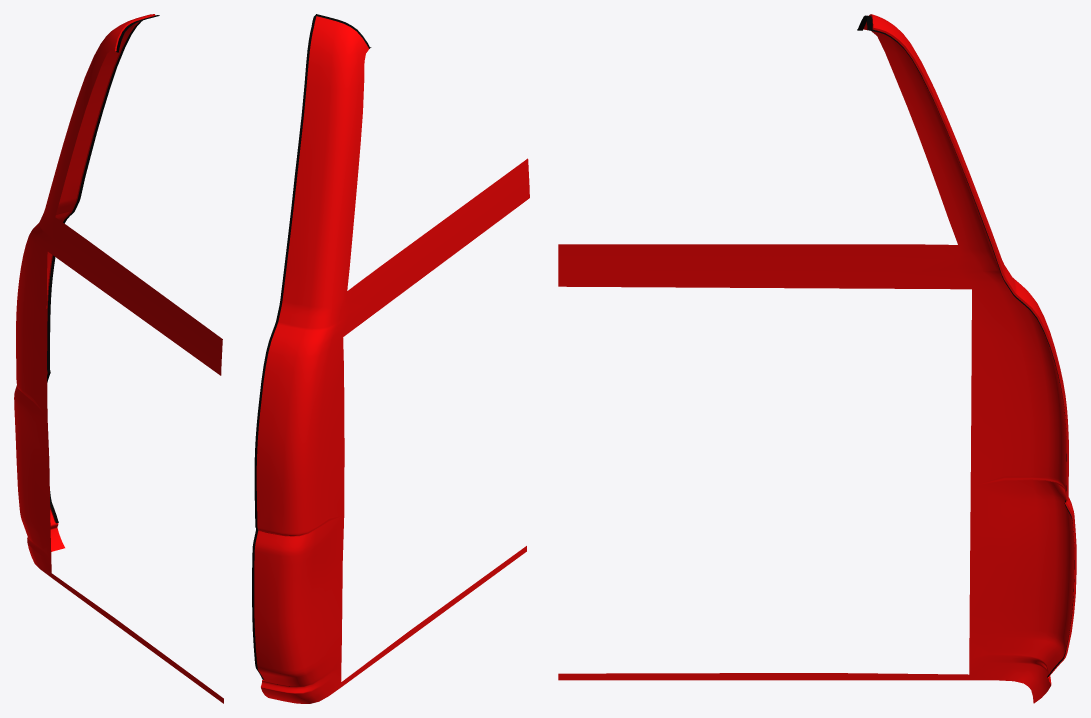
3 views of the same model, side by side, from view 1: azimuth 30°, elevation 25°; view 2: azimuth 150°, elevation 25°; view 3: azimuth 270°, elevation 25° (orthographic). The views are drawn at different scales.
Parts seen in each view (by area): view 1: U805_4A_181X_L_U805_4A_181X_L_1_DaS, U805_4A_181X_L_2_D_U805_4A_181X_L, U805_4A_181X_L_U805_4A_181X_L_1_DaS_E; view 2: U805_4A_181X_L_U805_4A_181X_L_1_DaS, U805_4A_181X_L_2_D_U805_4A_181X_L; view 3: U805_4A_181X_L_U805_4A_181X_L_1_DaS, U805_4A_181X_L_U805_4A_181X_L_1_DaS_E, U805_4A_181X_L_2_D_U805_4A_181X_L.
Boxes of the visible parts, <box> form: U805_4A_181X_L_U805_4A_181X_L_1_DaS: <box>14,14,223,703</box>; U805_4A_181X_L_2_D_U805_4A_181X_L: <box>47,15,159,523</box>; U805_4A_181X_L_U805_4A_181X_L_1_DaS_E: <box>18,14,155,523</box>; U805_4A_181X_L_U805_4A_181X_L_1_DaS: <box>254,16,529,703</box>; U805_4A_181X_L_2_D_U805_4A_181X_L: <box>252,14,371,679</box>; U805_4A_181X_L_U805_4A_181X_L_1_DaS: <box>558,14,1074,703</box>; U805_4A_181X_L_U805_4A_181X_L_1_DaS_E: <box>869,14,1076,678</box>; U805_4A_181X_L_2_D_U805_4A_181X_L: <box>857,15,1074,677</box>.
Size of the model in its own units: 16.48 by 130 by 88.6.
